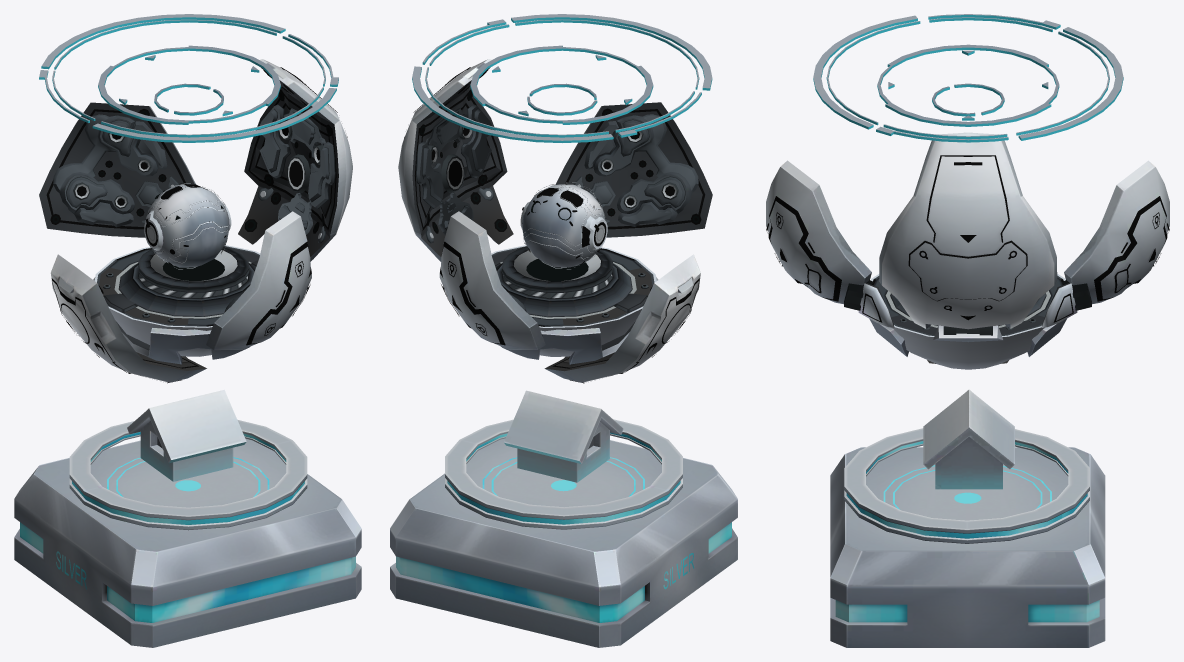
File: my_trophy_chesed_indoor_silver.glb
The picture shows the model from 3 angles, left to right: view 1: azimuth 30°, elevation 25°; view 2: azimuth 150°, elevation 25°; view 3: azimuth 270°, elevation 25°; orthographic projection. The views are drawn at different scales.
Visible parts, largest first — view 1: my_trophy_chesed_indoor_silver; view 2: my_trophy_chesed_indoor_silver; view 3: my_trophy_chesed_indoor_silver.
Boxes of the visible parts, bbox=[...] form: my_trophy_chesed_indoor_silver: bbox=[14, 14, 361, 647]; my_trophy_chesed_indoor_silver: bbox=[390, 14, 737, 647]; my_trophy_chesed_indoor_silver: bbox=[766, 14, 1169, 647].
Size of the model in its own units: 0.0046 by 0.00804 by 0.00573.
3 materials, 3 textured.
